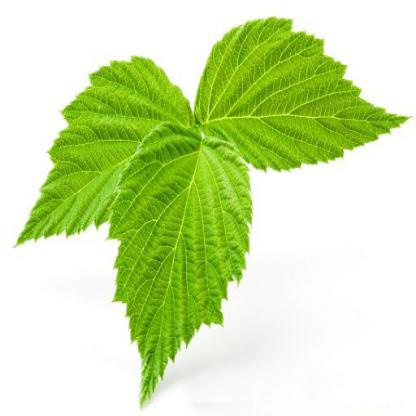raspberry leaf: (106, 118, 257, 415), (15, 52, 197, 251), (195, 11, 411, 173)
